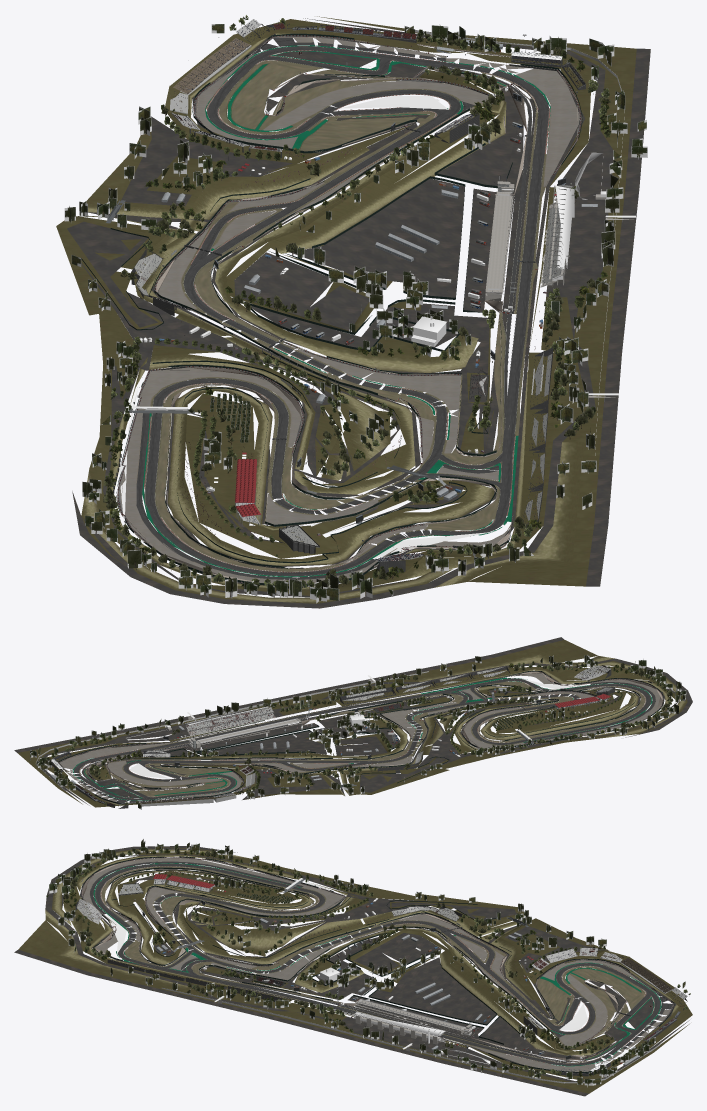
Rendered from catalunya-high.glb.
3 renders of one model, top to bottom at view 1: azimuth 30°, elevation 25°; view 2: azimuth 150°, elevation 25°; view 3: azimuth 270°, elevation 25°, orthographic. The views are drawn at different scales.
Visible parts, largest first — view 1: catalunya; view 2: catalunya; view 3: catalunya.
Part boxes in pixels (x1=…): catalunya: x1=56, y1=15, x2=650, y2=608; catalunya: x1=14, y1=637, x2=692, y2=809; catalunya: x1=14, y1=839, x2=692, y2=1096.
Bounding box in the file's own units: 209 × 16.74 × 241.
Materials: 100 (99 with a texture image).
